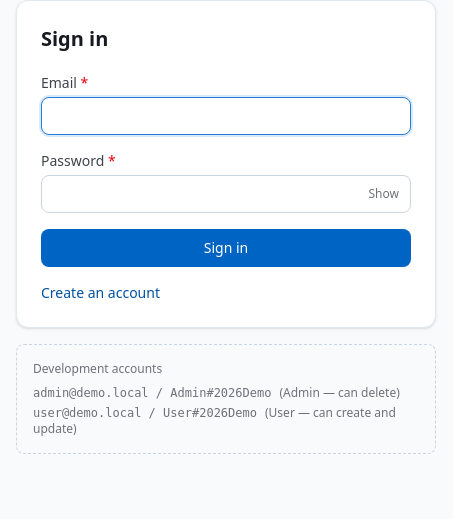
Test: LoginPage › validates client-side before sending anything
The image size is (453, 519).
Step 1. Click the button "Sign in" → coordinates (226, 248), box [41, 229, 411, 267]
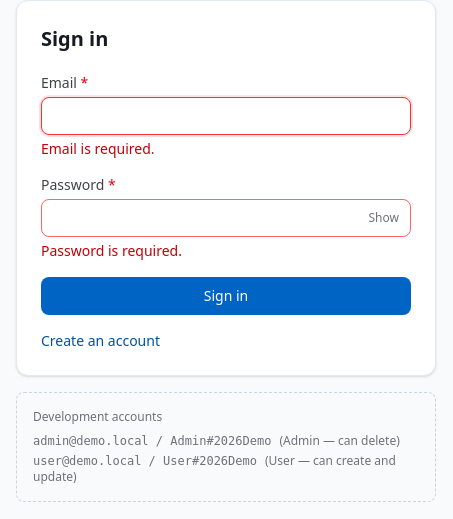
Now the text "Email is required." is shown, box [41, 139, 155, 158]
Now the text "Password is required." is shown, box [41, 241, 182, 260]
